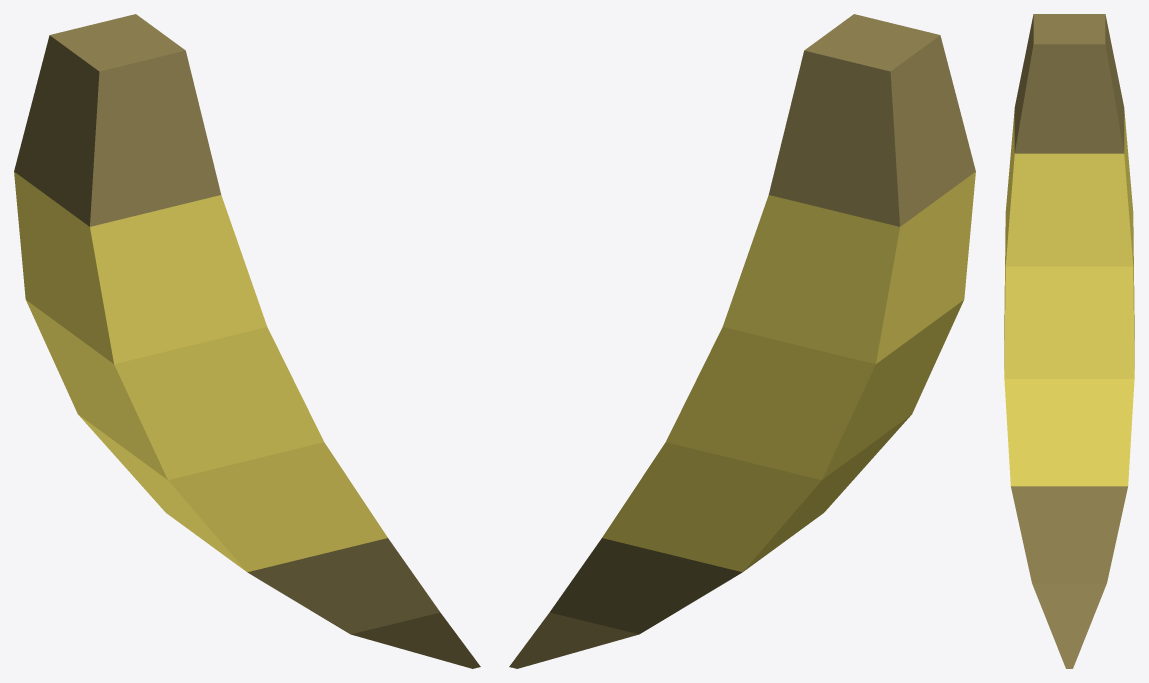
The model's file is banana.glb.
3 views of the same model, side by side, from view 1: azimuth 30°, elevation 25°; view 2: azimuth 150°, elevation 25°; view 3: azimuth 270°, elevation 25° (orthographic). The views are drawn at different scales.
Parts seen in each view (by area): view 1: Banana; view 2: Banana; view 3: Banana.
Part boxes in pixels (left/top/right/bottom): Banana: left=14, top=14, right=480, bottom=668; Banana: left=509, top=14, right=975, bottom=668; Banana: left=1004, top=14, right=1134, bottom=668.
Size of the model in its own units: 0.2915 by 0.464 by 0.1068.
